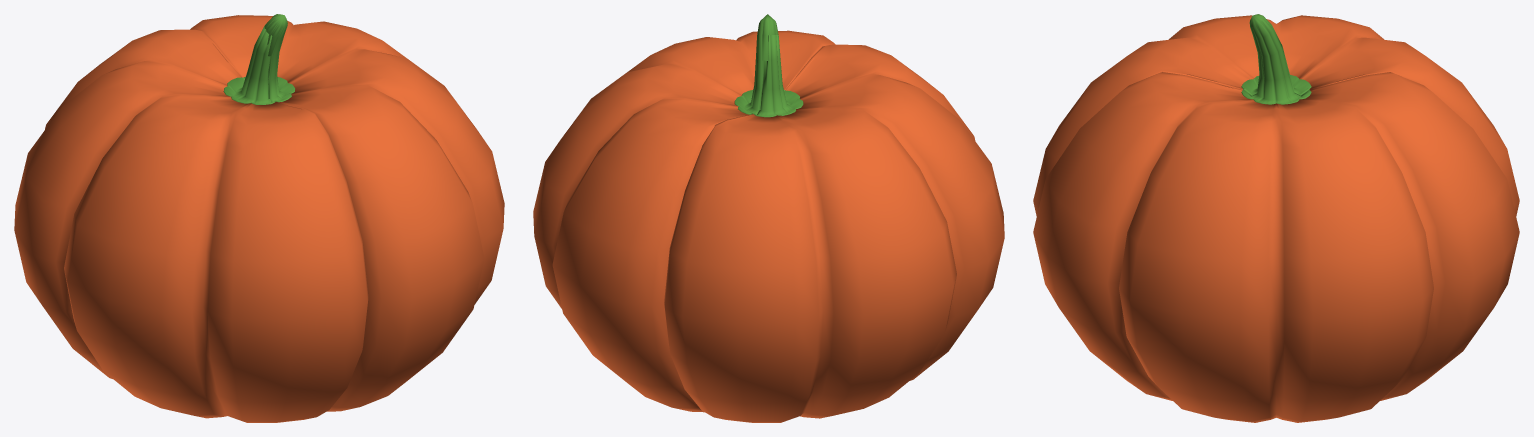
Rendered from тыква разрез вертикально .fbx.
3 views of the same model, side by side, from view 1: azimuth 30°, elevation 25°; view 2: azimuth 150°, elevation 25°; view 3: azimuth 270°, elevation 25° (orthographic). The views are drawn at different scales.
Visible parts, largest first — view 1: Cylinder.002, Cylinder.001; view 2: Cylinder.002, Cylinder.001; view 3: Cylinder.001, Cylinder.002.
Part boxes in pixels (left/top/right/bottom): Cylinder.002: left=14, top=24, right=368, bottom=422; Cylinder.001: left=190, top=14, right=504, bottom=411; Cylinder.002: left=664, top=35, right=1004, bottom=422; Cylinder.001: left=533, top=14, right=835, bottom=412; Cylinder.001: left=1033, top=14, right=1519, bottom=422; Cylinder.002: left=1033, top=15, right=1519, bottom=216.
Bounding box in the file's own units: 260 × 218 × 260.
